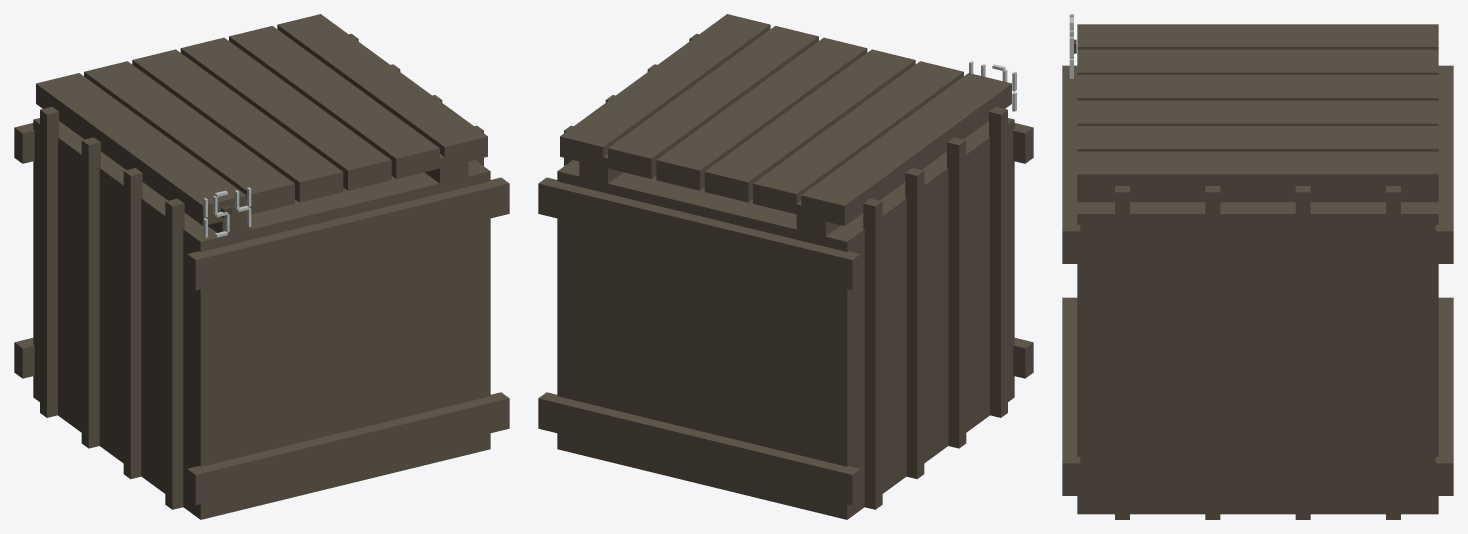
Rendered from crate-2.glb.
The picture shows the model from 3 angles, left to right: view 1: azimuth 30°, elevation 25°; view 2: azimuth 150°, elevation 25°; view 3: azimuth 270°, elevation 25°; orthographic projection. The views are drawn at different scales.
Parts seen in each view (by area): view 1: crate/1/KR-230-2; view 2: crate/1/KR-230-2; view 3: crate/1/KR-230-2.
Part boxes in pixels (x1,y1,x2,y2): crate/1/KR-230-2: [14, 14, 509, 519]; crate/1/KR-230-2: [538, 14, 1033, 519]; crate/1/KR-230-2: [1062, 14, 1453, 519].
Bounding box in the file's own units: 1.3 × 1.28 × 1.3.
